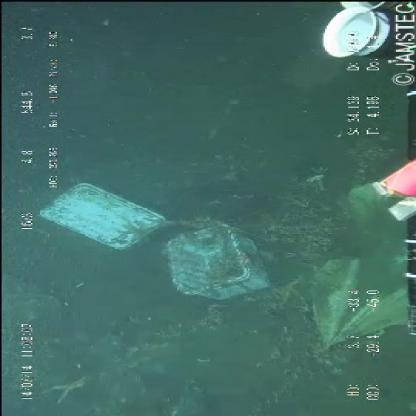Rov: (312, 1, 414, 347)
Rác: (34, 178, 292, 306)
